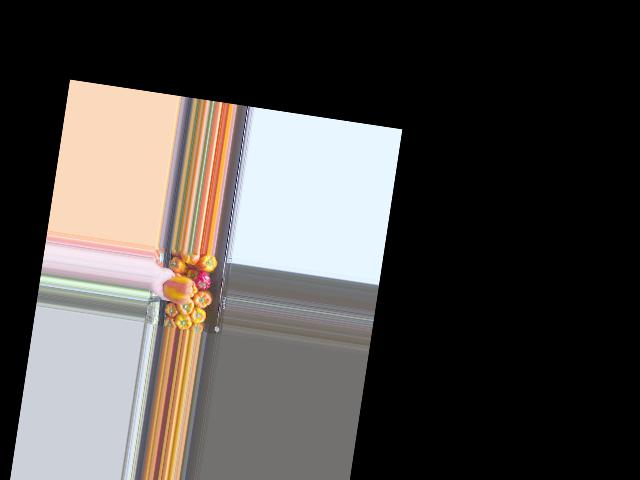bell_pepper: (170, 254, 187, 275)
